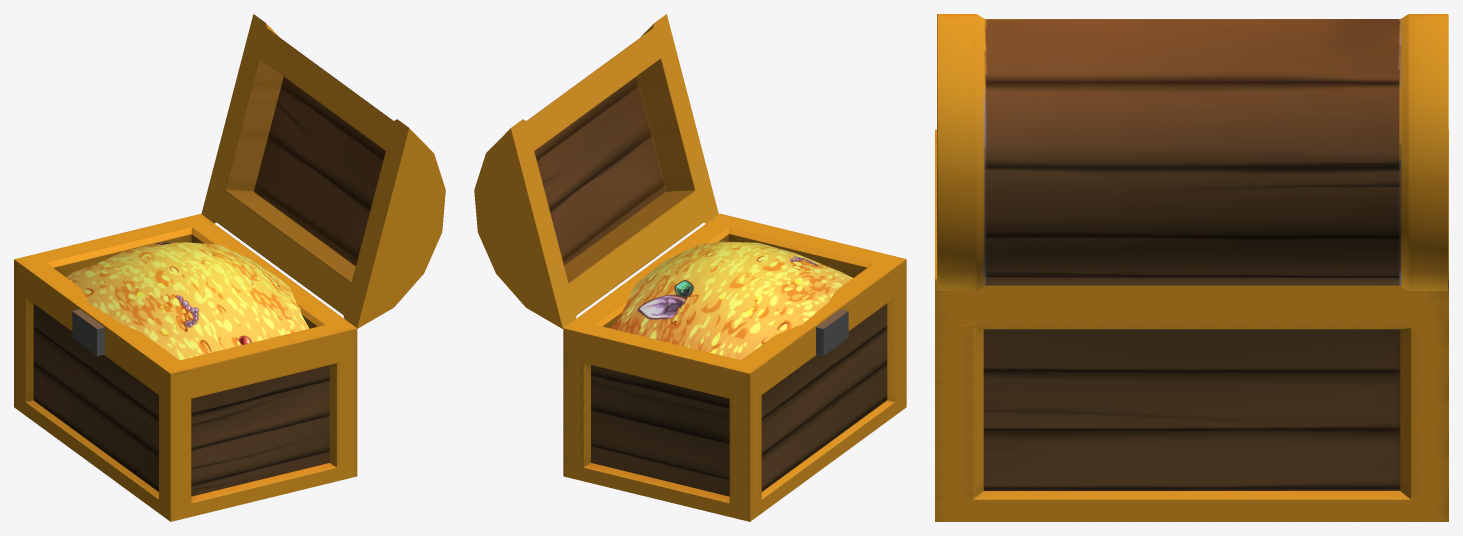
Rendered from homkhobau.fbx.
3 renders of one model, left to right at view 1: azimuth 30°, elevation 25°; view 2: azimuth 150°, elevation 25°; view 3: azimuth 270°, elevation 25°, orthographic. The views are drawn at different scales.
Visible parts, largest first — view 1: Cube, Circle, Plane, Cube.001; view 2: Cube, Circle, Plane, Cube.001; view 3: Circle, Cube.
Boxes of the visible parts, x1,y1,x2,y2 form: Cube: (14,214,357,521); Circle: (201,14,445,328); Plane: (66,242,309,360); Cube.001: (72,309,104,356); Cube: (563,213,906,521); Circle: (474,14,718,328); Plane: (611,241,852,360); Cube.001: (816,309,848,355); Circle: (937,14,1448,290); Cube: (935,129,1448,521).
Bounding box in the file's own units: 2.2 × 2.48 × 2.1.
